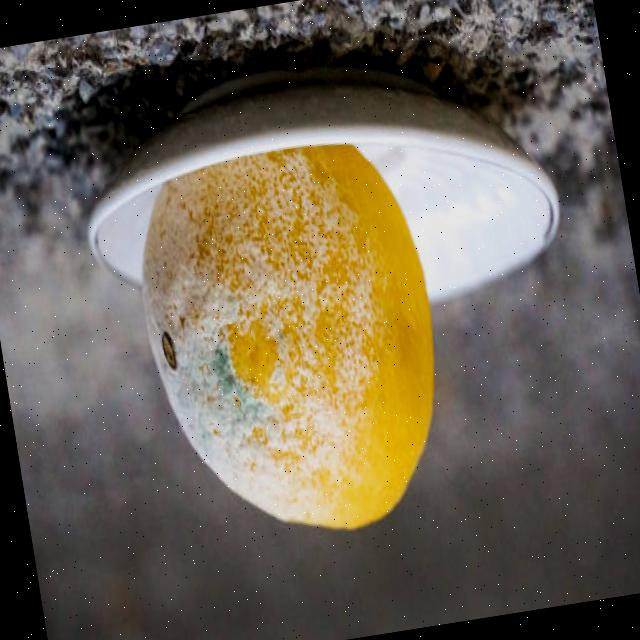Rotten: (120, 130, 462, 560)
